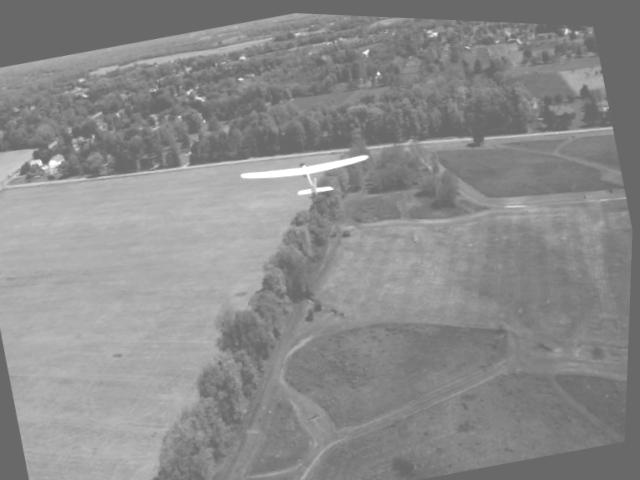hedef: (232, 128, 380, 220)
